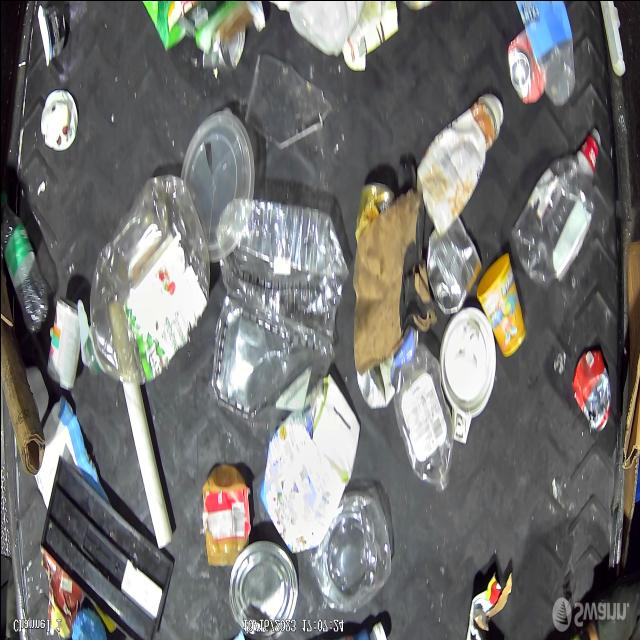can: (231, 557, 287, 635), (44, 294, 82, 392), (504, 22, 539, 112), (569, 352, 605, 434)
plastic_bottle: (80, 188, 210, 378), (512, 130, 602, 294), (216, 204, 343, 318), (396, 344, 452, 482), (0, 200, 45, 344)
